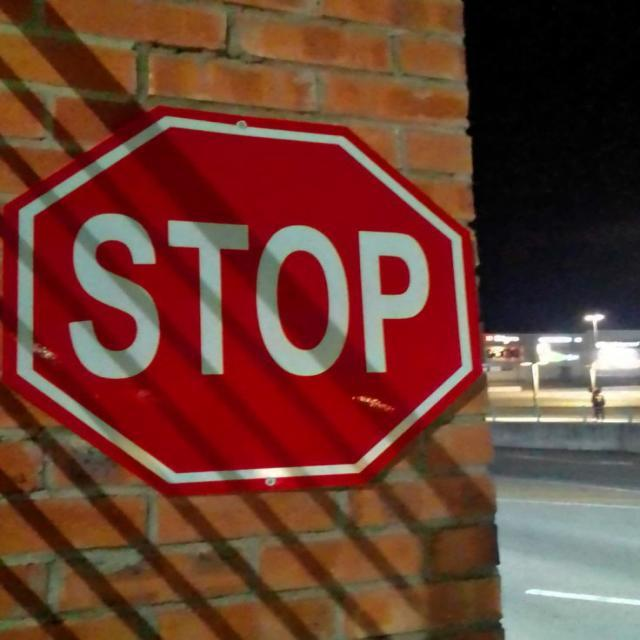stop: (0, 103, 486, 497)
